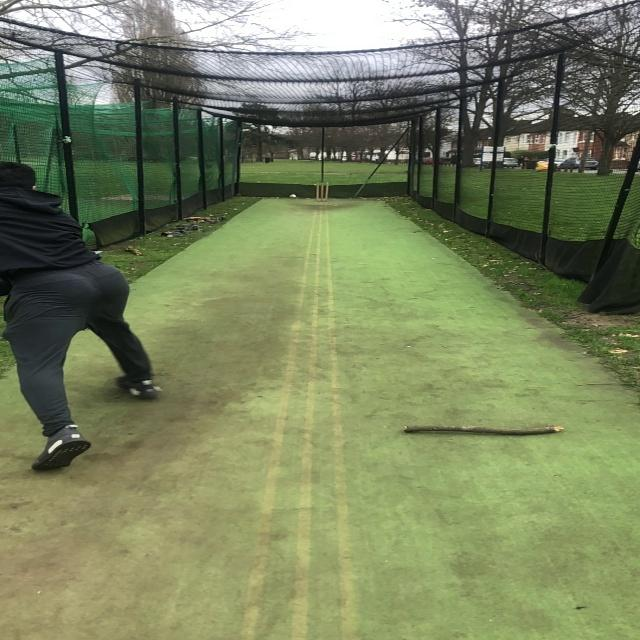ball: (290, 193, 296, 200)
